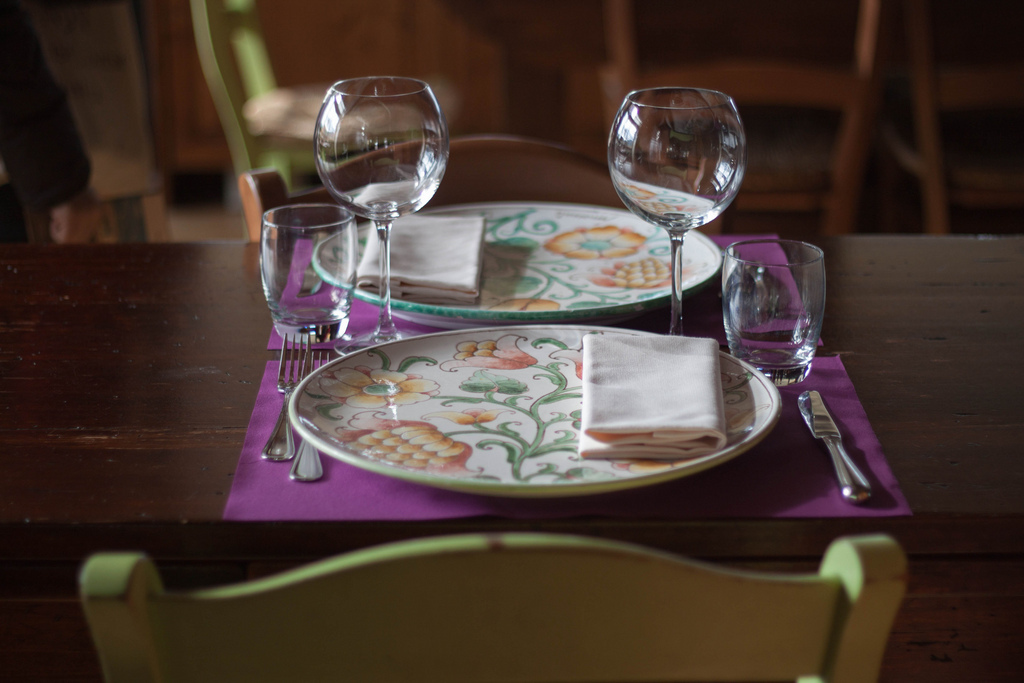plate: (277, 317, 792, 476)
